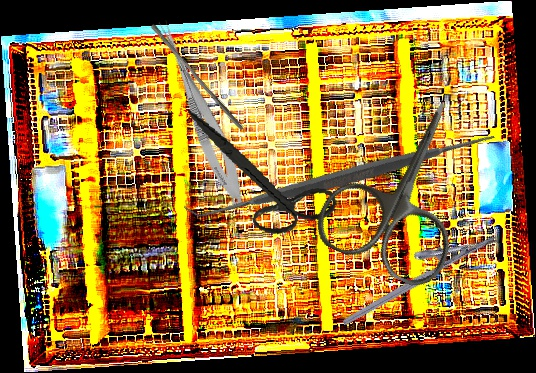Iris Scissors: (306, 75, 507, 295), (171, 110, 348, 243)
Micro Scissor: (146, 16, 254, 211)
Needle Holder: (330, 214, 499, 327)
Pusher: (146, 22, 249, 132)
Spatula Surgical: (183, 14, 507, 339)
